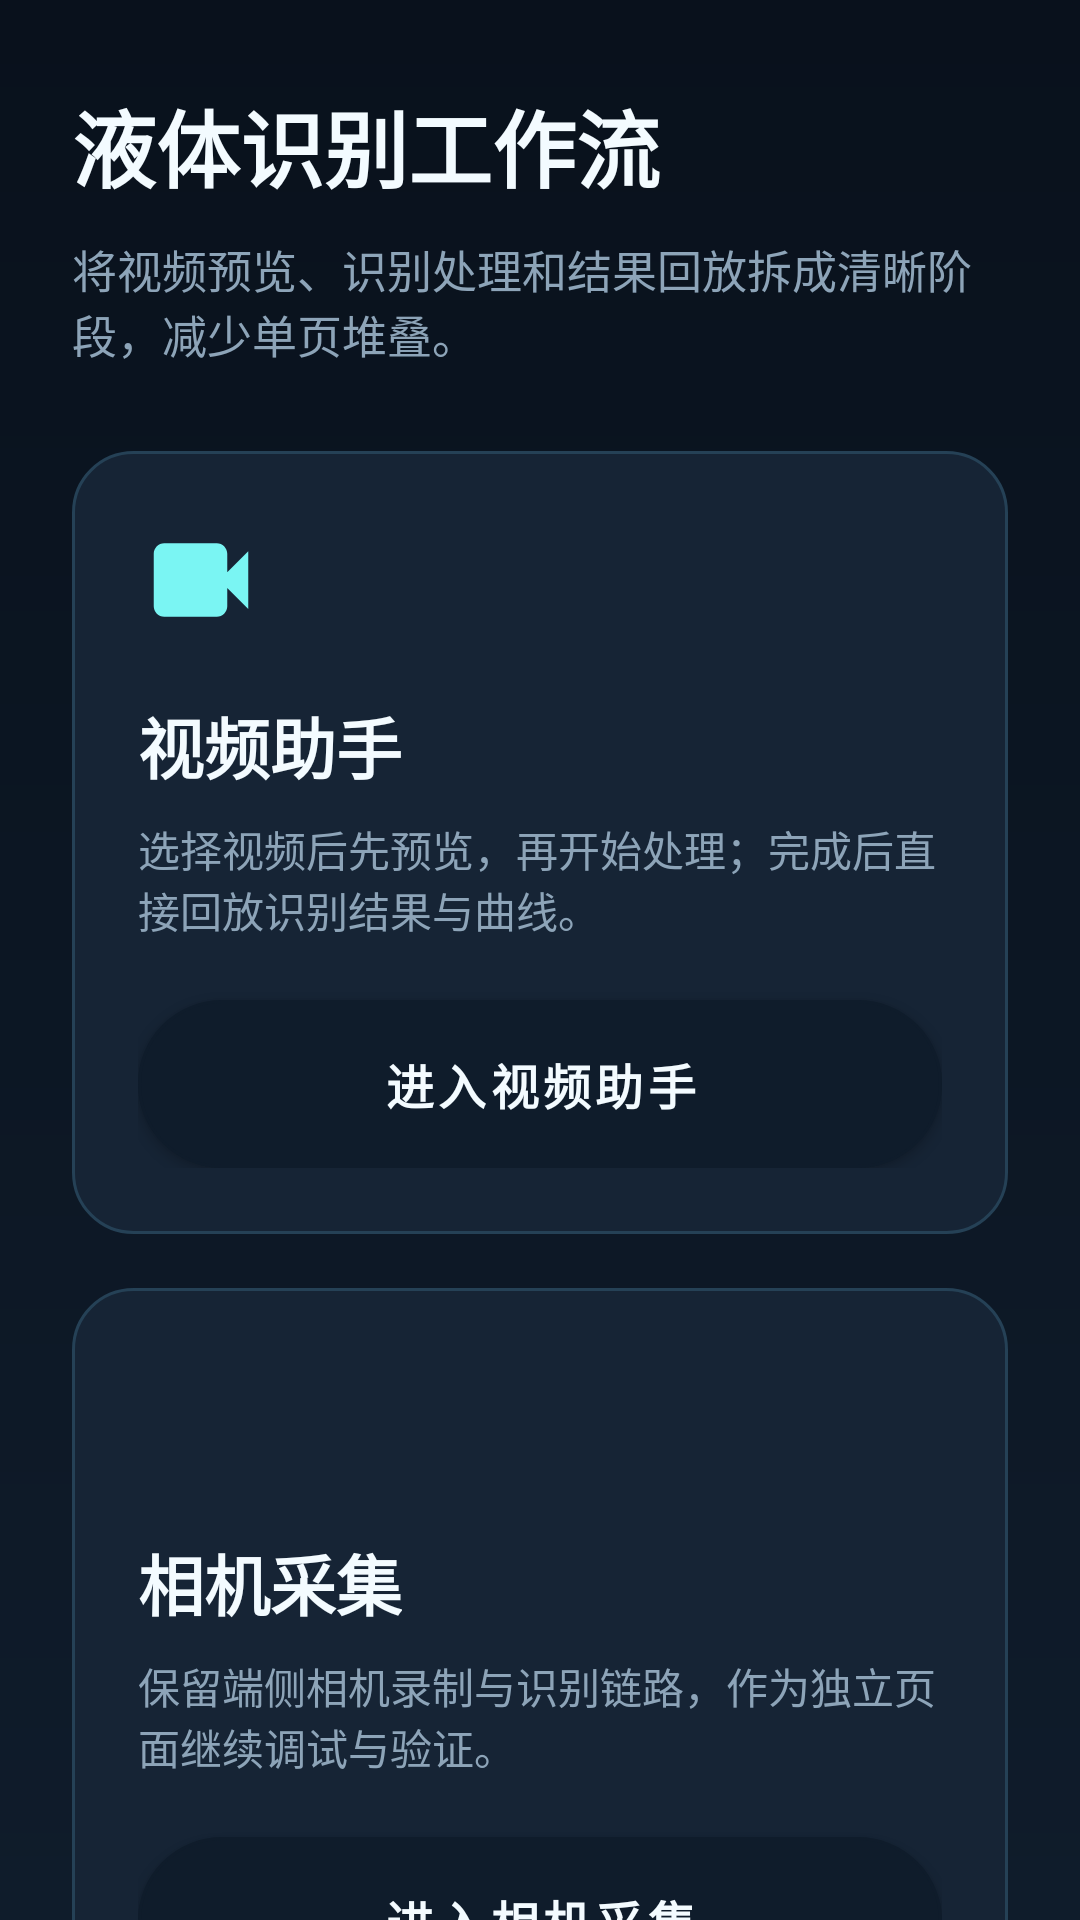

Icons on this 1080px×1920px Android screen, each with its box as (x1, y1, x2, y2):
video: (153, 543, 249, 617)
